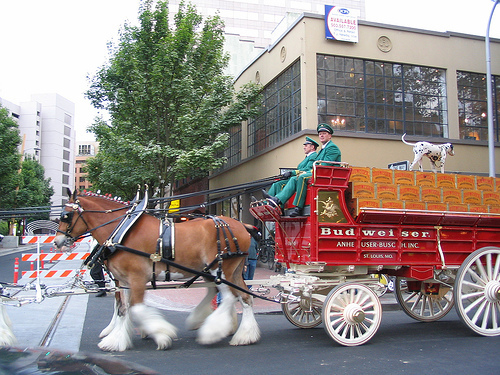horse: (55, 188, 262, 353)
